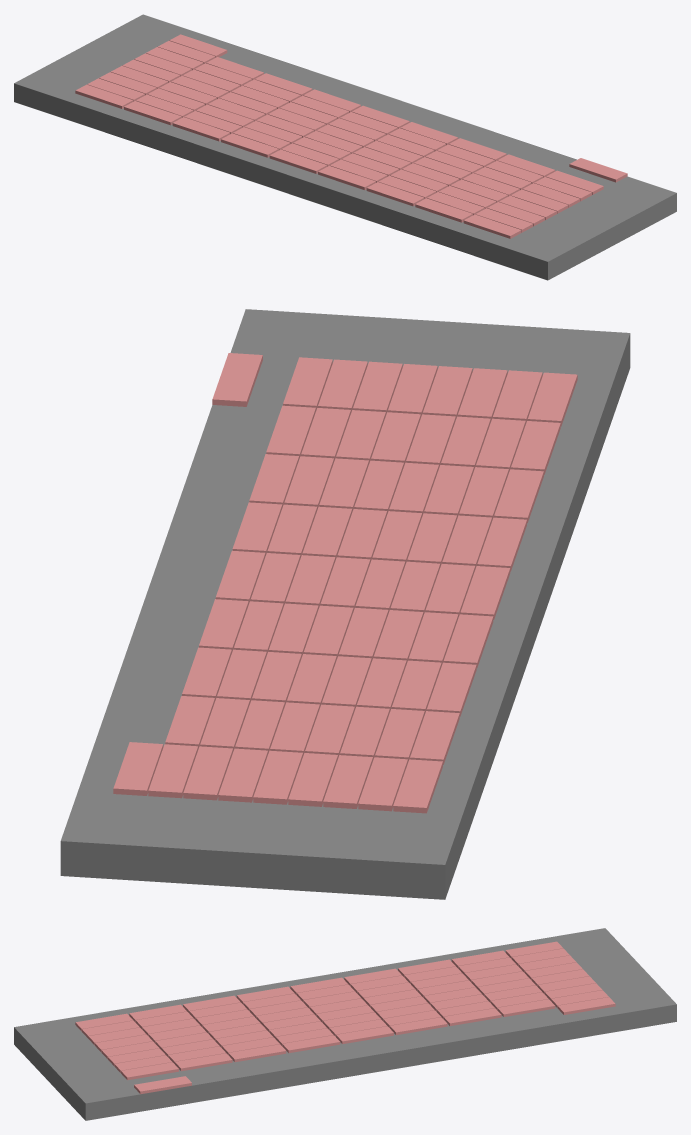
The model's file is klavye.fbx.
3 views of the same model, one above another, from view 1: azimuth 30°, elevation 25°; view 2: azimuth 150°, elevation 25°; view 3: azimuth 270°, elevation 25° (orthographic). The views are drawn at different scales.
Parts seen in each view (by area): view 1: Cube.002; view 2: Cube.002; view 3: Cube.002.
Boxes of the visible parts, left/top/right/bottom form: Cube.002: left=14, top=14, right=676, bottom=280; Cube.002: left=60, top=309, right=630, bottom=899; Cube.002: left=14, top=928, right=676, bottom=1120.
Bounding box in the file's own units: 427 × 22.92 × 682.
